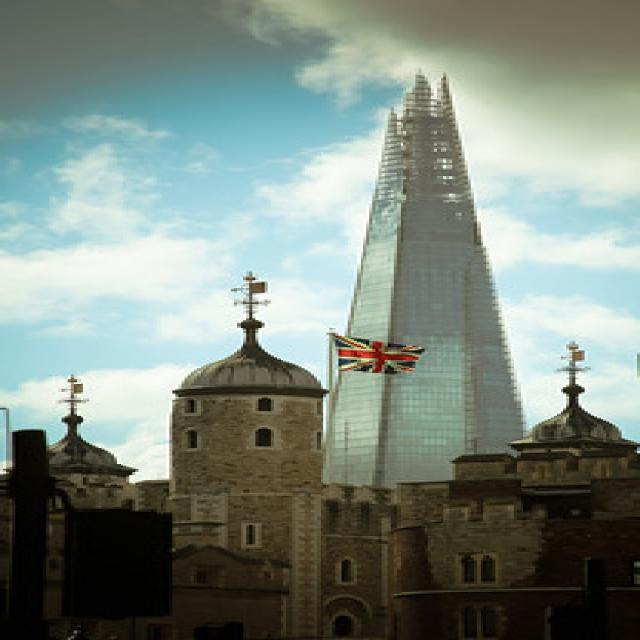Normal_building: (317, 66, 535, 510)
